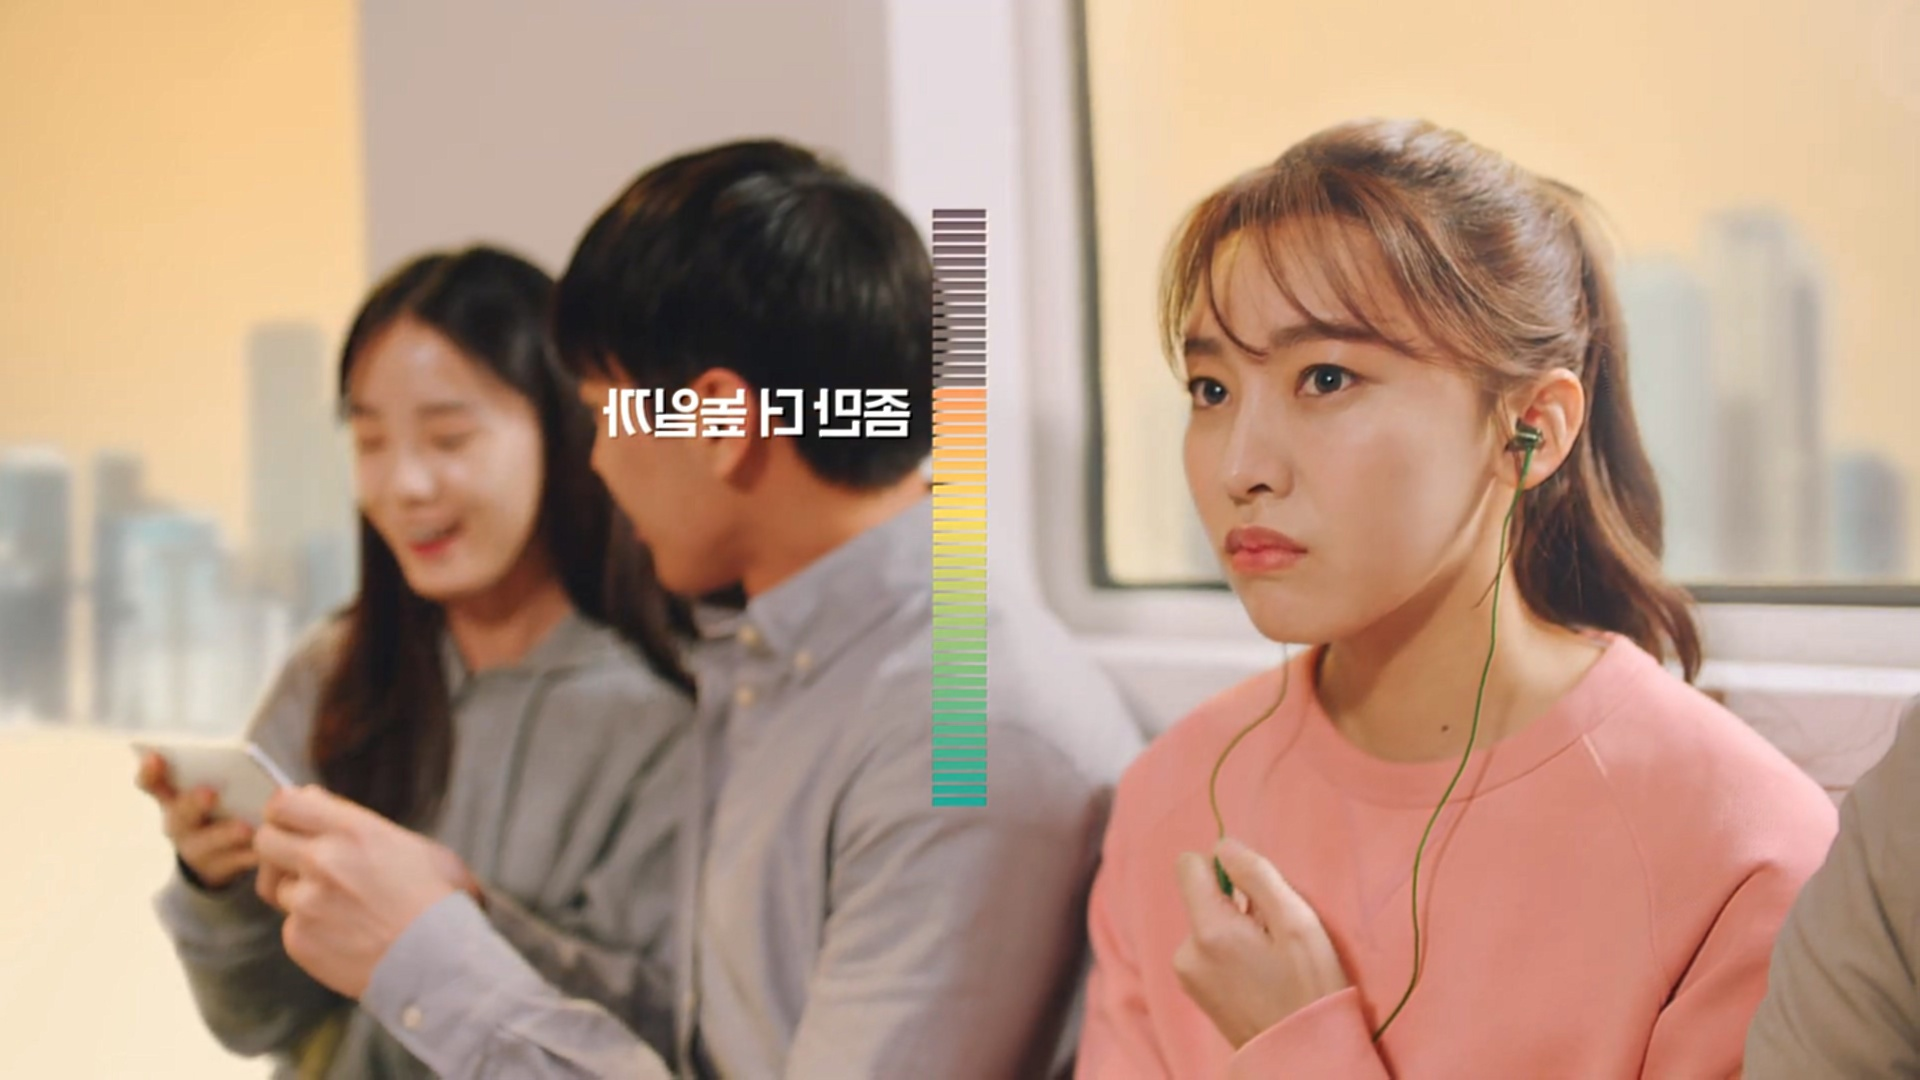earphone: (1491, 368, 1585, 491)
